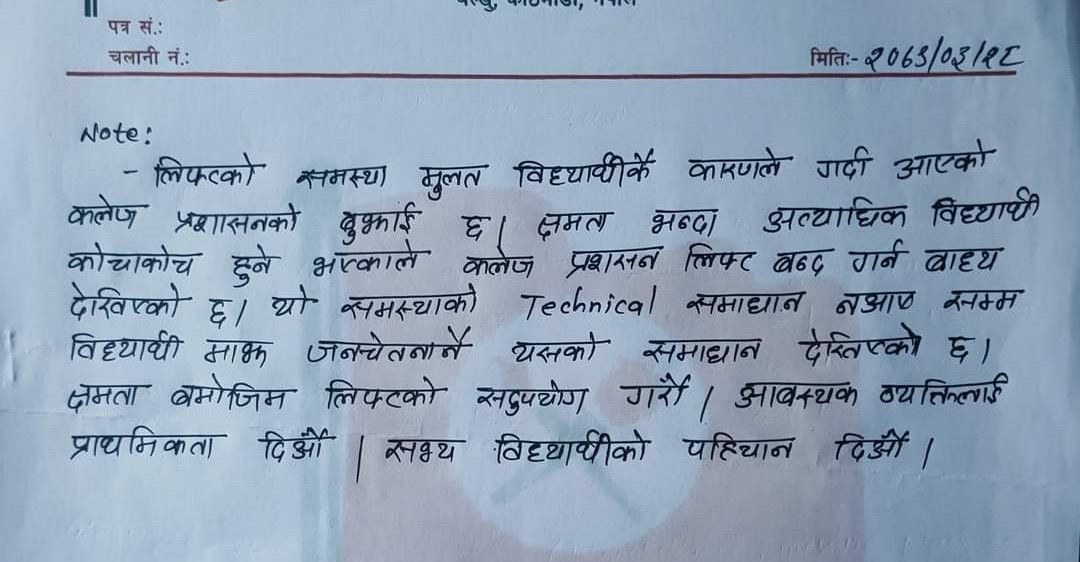text: (303, 324, 476, 368), (66, 422, 217, 464), (337, 283, 482, 326), (760, 193, 908, 234), (493, 429, 652, 467), (515, 149, 657, 191), (797, 322, 925, 366), (169, 373, 295, 417), (927, 185, 1042, 233), (861, 40, 1029, 72), (63, 241, 199, 280), (877, 369, 1014, 407), (172, 200, 305, 239), (321, 371, 440, 414), (638, 332, 766, 370), (64, 327, 185, 367), (309, 239, 427, 280), (892, 137, 997, 183), (66, 280, 183, 321), (731, 380, 864, 414), (153, 149, 258, 192), (475, 380, 593, 417), (562, 244, 663, 283), (683, 287, 806, 319), (681, 430, 800, 463), (337, 198, 417, 244), (683, 148, 787, 183), (260, 423, 333, 467), (618, 373, 695, 413), (508, 332, 603, 364), (65, 193, 145, 230), (535, 205, 612, 243), (831, 429, 914, 464), (941, 284, 1026, 318), (459, 245, 537, 282), (379, 433, 465, 466), (418, 162, 484, 204), (920, 242, 1004, 275), (292, 164, 389, 192), (223, 240, 277, 290), (63, 382, 141, 415), (647, 206, 722, 240), (832, 289, 919, 318), (202, 333, 268, 370), (683, 241, 754, 275), (845, 238, 906, 275), (769, 244, 835, 278), (815, 143, 872, 181), (272, 283, 316, 321), (945, 331, 978, 368), (459, 212, 491, 245), (205, 294, 234, 328)
